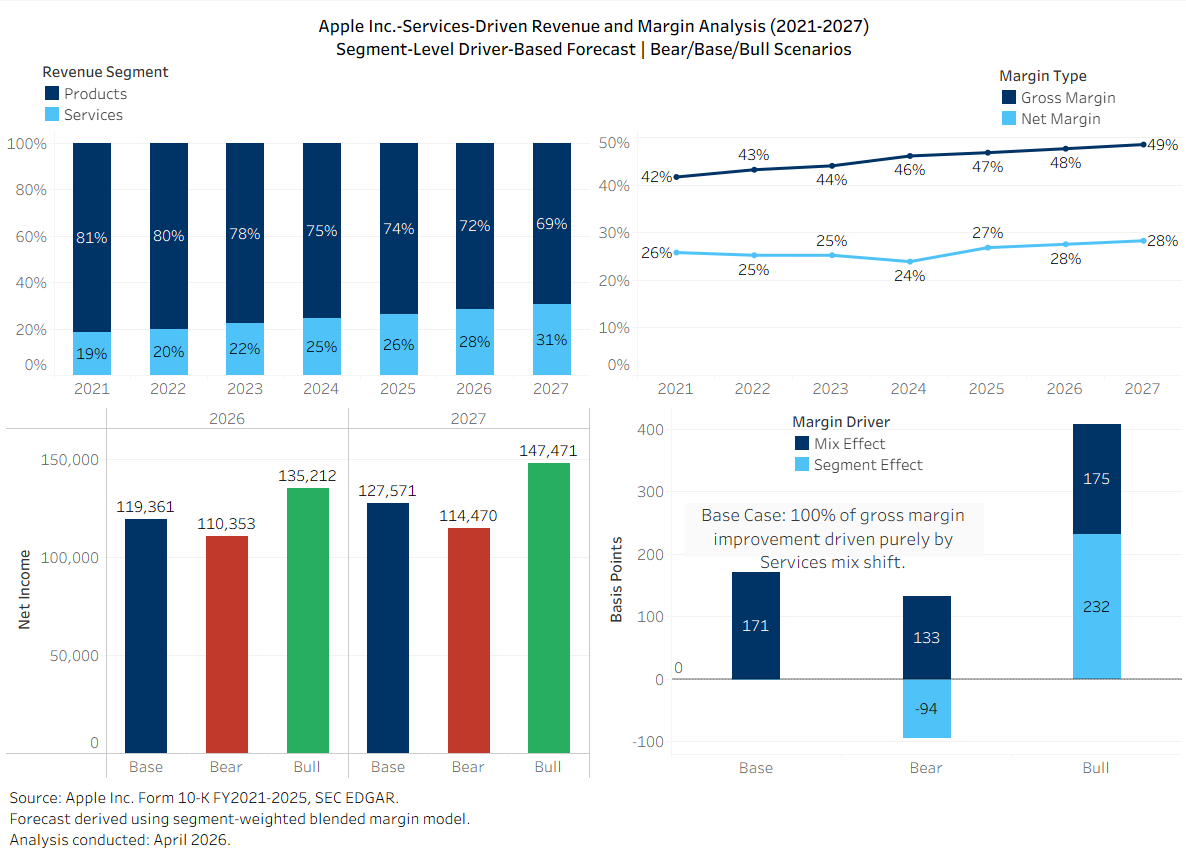

This screenshot's page, from the dashboard's own definition file:
{"tool":"tableau","page":{"name":"Dashboard Overview","canvas":[1200,900],"ordinal":0},"visuals":[{"type":"text","box":[8,8,1184,118]},{"type":"legend","title":"Revenue Mix","param":"[federated.078z7iw1nqpfyc106ynqp1q8m5t3].[:Measure Names]","box":[48,60,308,67]},{"type":"legend","title":"Margin Trend","param":"[federated.078z7iw1nqpfyc106ynqp1q8m5t3].[:Measure Names]","box":[1005,64,183,64]},{"type":"worksheet","title":"Revenue Mix","mark":"Bar","cols":["Year"],"box":[8,126,592,277]},{"type":"worksheet","title":"Margin Trend","mark":"Line","cols":["Year"],"box":[600,126,592,277]},{"type":"worksheet","title":"Scenario Comparison","mark":"Bar","rows":["Net Income"],"cols":["Year","Scenario"],"box":[8,403,592,379]},{"type":"worksheet","title":"Margin Attribution","mark":"Bar","rows":["Basis Points"],"cols":["Scenario"],"box":[600,403,592,379]},{"type":"legend","title":"Margin Attribution","param":"[federated.0sxa6lk1gvlrs317zaar015ugs2k].[none:Driver:nk]","box":[798,410,226,64]},{"type":"text","box":[8,782,1184,110]}]}

Visuals, with their boxes on the page's 1200x900 design canvas (x1, y1, x2, y2). These are canvas units, not pixel positions in the 1186x853 screenshot, which may show the page scaled, cropped or inside an application window:
text: {"x1": 8, "y1": 8, "x2": 1192, "y2": 126}
"Revenue Mix" legend: {"x1": 48, "y1": 60, "x2": 356, "y2": 127}
"Margin Trend" legend: {"x1": 1005, "y1": 64, "x2": 1188, "y2": 128}
"Revenue Mix" worksheet (Bar marks): {"x1": 8, "y1": 126, "x2": 600, "y2": 403}
"Margin Trend" worksheet (Line marks): {"x1": 600, "y1": 126, "x2": 1192, "y2": 403}
"Scenario Comparison" worksheet (Bar marks): {"x1": 8, "y1": 403, "x2": 600, "y2": 782}
"Margin Attribution" worksheet (Bar marks): {"x1": 600, "y1": 403, "x2": 1192, "y2": 782}
"Margin Attribution" legend: {"x1": 798, "y1": 410, "x2": 1024, "y2": 474}
text: {"x1": 8, "y1": 782, "x2": 1192, "y2": 892}
